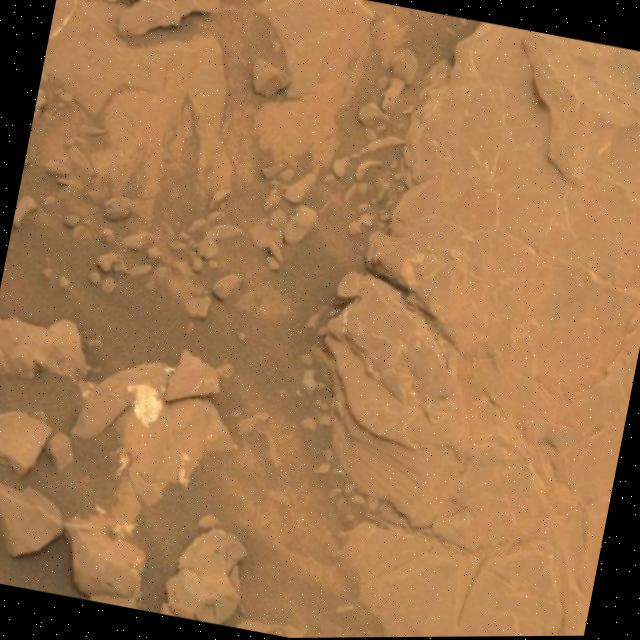mars-rocks: (161, 531, 246, 625), (65, 531, 144, 599), (0, 486, 61, 557), (0, 413, 50, 476), (164, 351, 219, 402), (252, 58, 289, 96), (43, 433, 72, 472), (211, 275, 240, 301)
